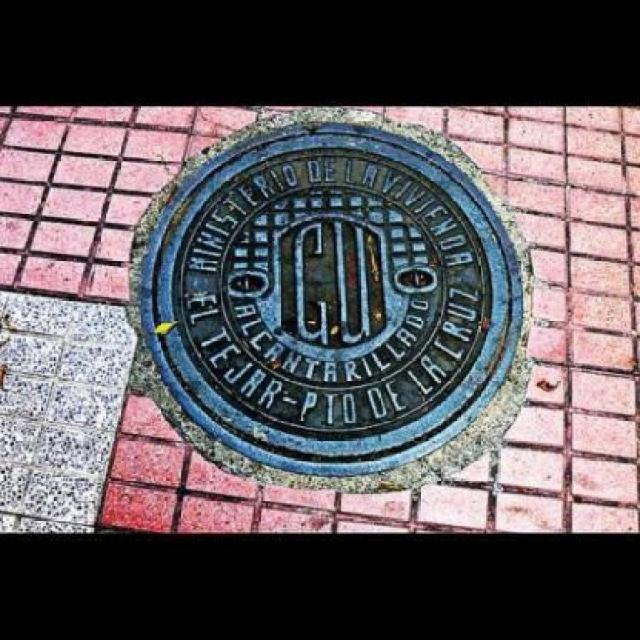Manhole: (123, 113, 540, 496)
